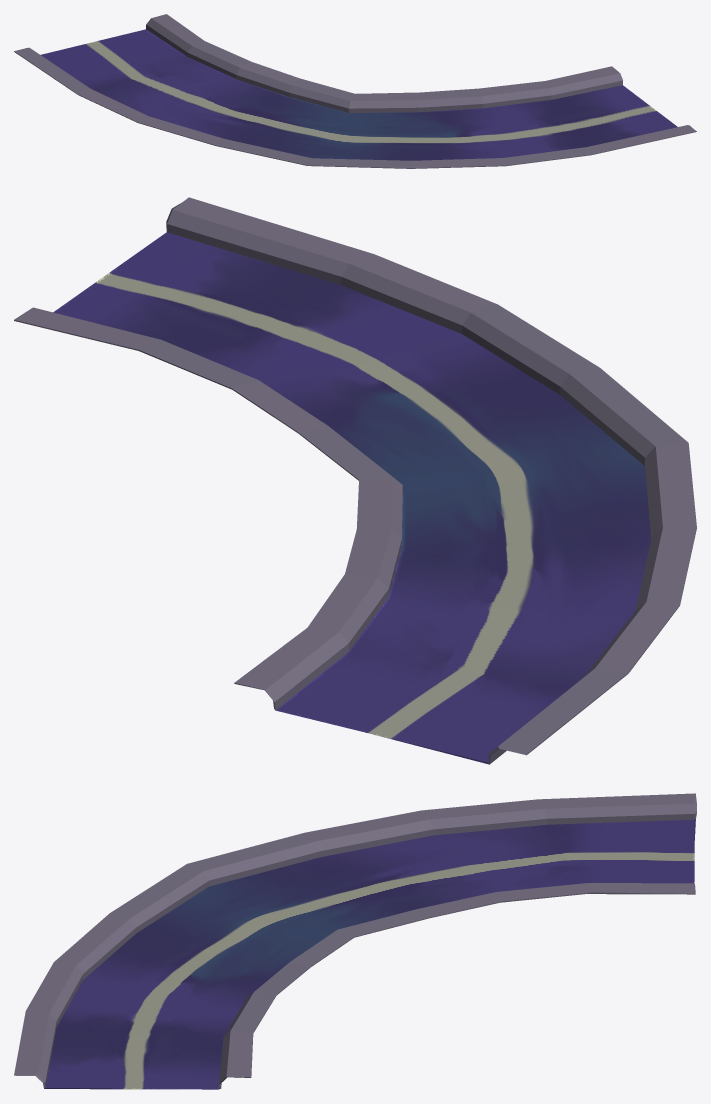
The model's file is SM_ARCH_RoadInL_v01.fbx.
The picture shows the model from 3 angles, top to bottom: view 1: azimuth 30°, elevation 25°; view 2: azimuth 150°, elevation 25°; view 3: azimuth 270°, elevation 25°; orthographic projection. The views are drawn at different scales.
Visible parts, largest first — view 1: curved-road; view 2: curved-road; view 3: curved-road.
Part boxes in pixels (x1,y1,x2,y2): curved-road: (14,14,696,168); curved-road: (14,197,696,764); curved-road: (14,793,696,1089).
Size of the model in its own units: 2026 by 60.08 by 2057.
2 materials, 1 textured.
